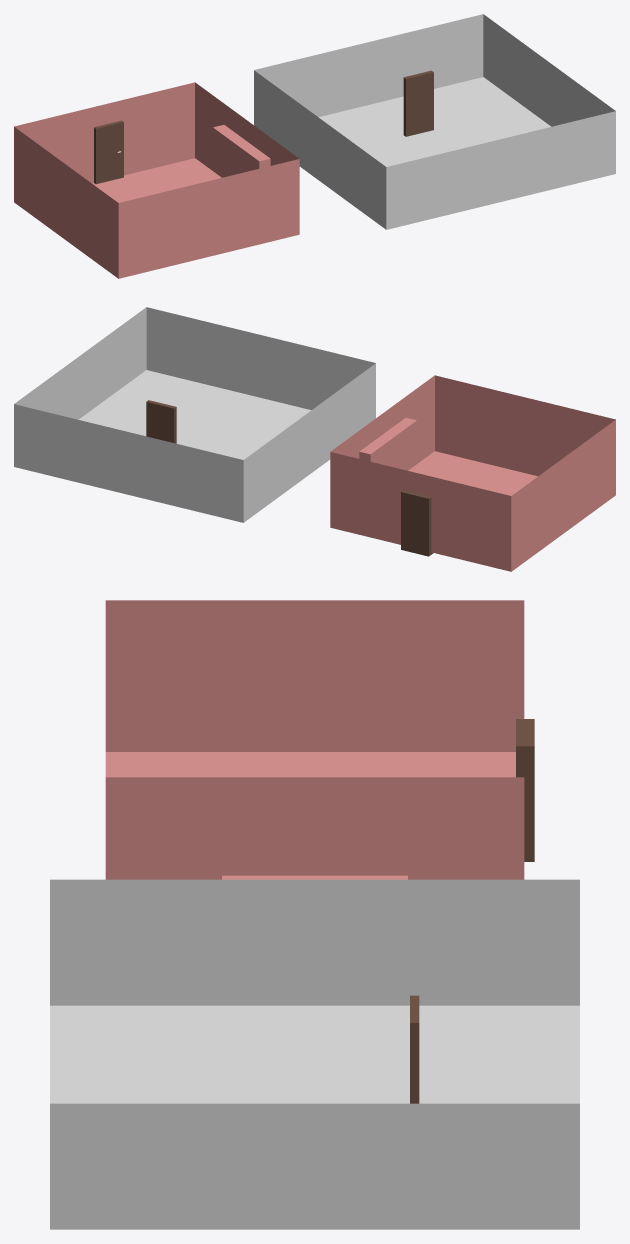
Rendered from room-empty-fix3.fbx.
3 renders of one model, top to bottom at view 1: azimuth 30°, elevation 25°; view 2: azimuth 150°, elevation 25°; view 3: azimuth 270°, elevation 25°, orthographic. The views are drawn at different scales.
Visible parts, largest first — view 1: Plan, Cube, Cube.003, Cube.001; view 2: Plan, Cube, Cube.001, Cube.003; view 3: Plan, Cube, Cube.001, Cube.003.
Part boxes in pixels (x1,y1,x2,y2): Plan: (254, 14, 615, 229); Cube: (14, 82, 299, 278); Cube.003: (403, 70, 433, 136); Cube.001: (94, 120, 123, 184); Plan: (14, 307, 375, 522); Cube: (330, 375, 615, 571); Cube.001: (401, 490, 433, 556); Cube.003: (146, 400, 176, 443); Plan: (50, 879, 579, 1229); Cube: (105, 600, 524, 879); Cube.001: (516, 719, 534, 861); Cube.003: (410, 995, 419, 1103).
Bounding box in the file's own units: 2450 × 381 × 1163.
